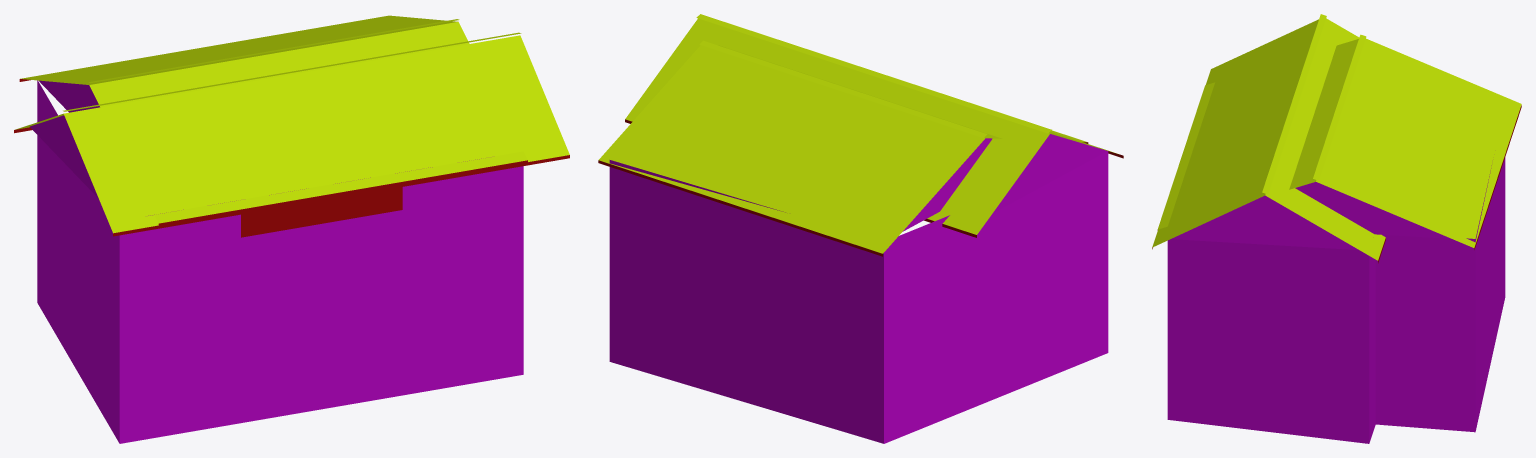
Rendered from bgj_374.glb.
3 views of the same model, side by side, from view 1: azimuth 30°, elevation 25°; view 2: azimuth 150°, elevation 25°; view 3: azimuth 270°, elevation 25° (orthographic). The views are drawn at different scales.
Parts seen in each view (by area): view 1: bgj_374; view 2: bgj_374; view 3: bgj_374.
Part boxes in pixels (x1=…): bgj_374: x1=14, y1=15, x2=569, y2=443; bgj_374: x1=598, y1=14, x2=1123, y2=443; bgj_374: x1=1152, y1=14, x2=1521, y2=443.
Bounding box in the file's own units: 17.66 × 10.72 × 14.39.
